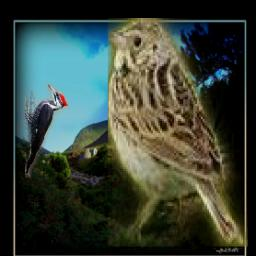Sparrow: (108, 18, 248, 247)
Woodpecker: (25, 83, 69, 178)
